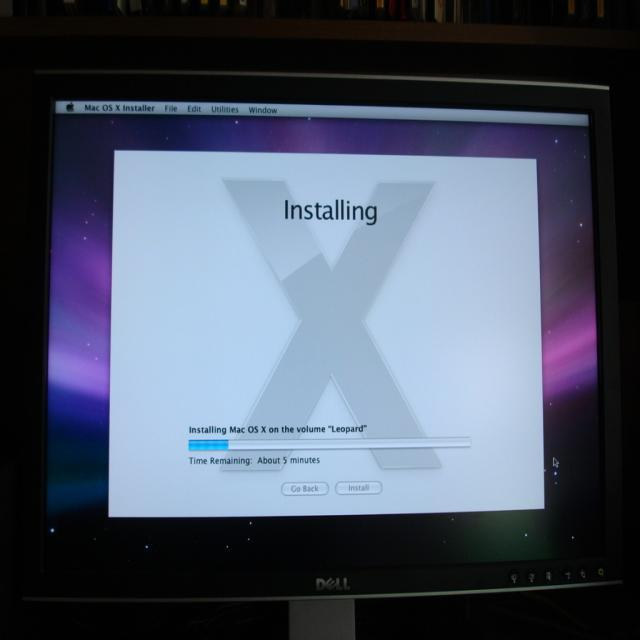others: (8, 15, 640, 628)
